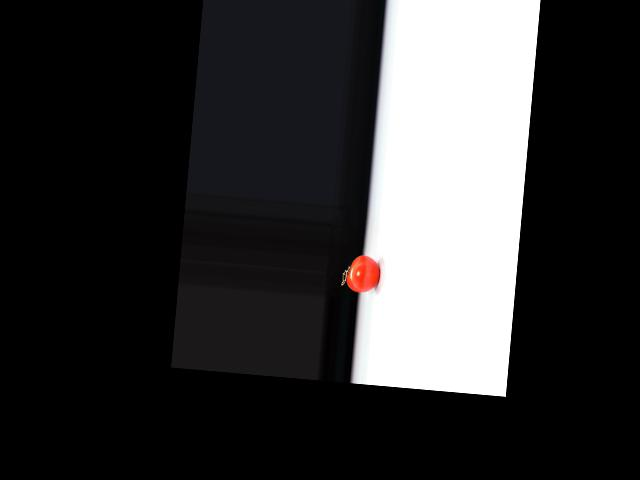tomato: (345, 253, 381, 293)
